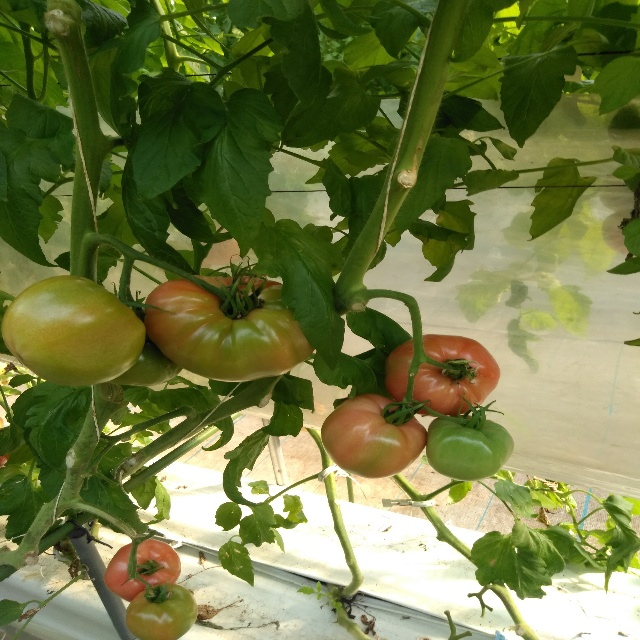b_green: (1, 274, 147, 386), (426, 414, 515, 482), (125, 583, 199, 640), (105, 332, 183, 386)
b_half_ripened: (144, 275, 321, 382), (383, 333, 502, 417), (320, 394, 428, 478), (104, 538, 181, 602)
